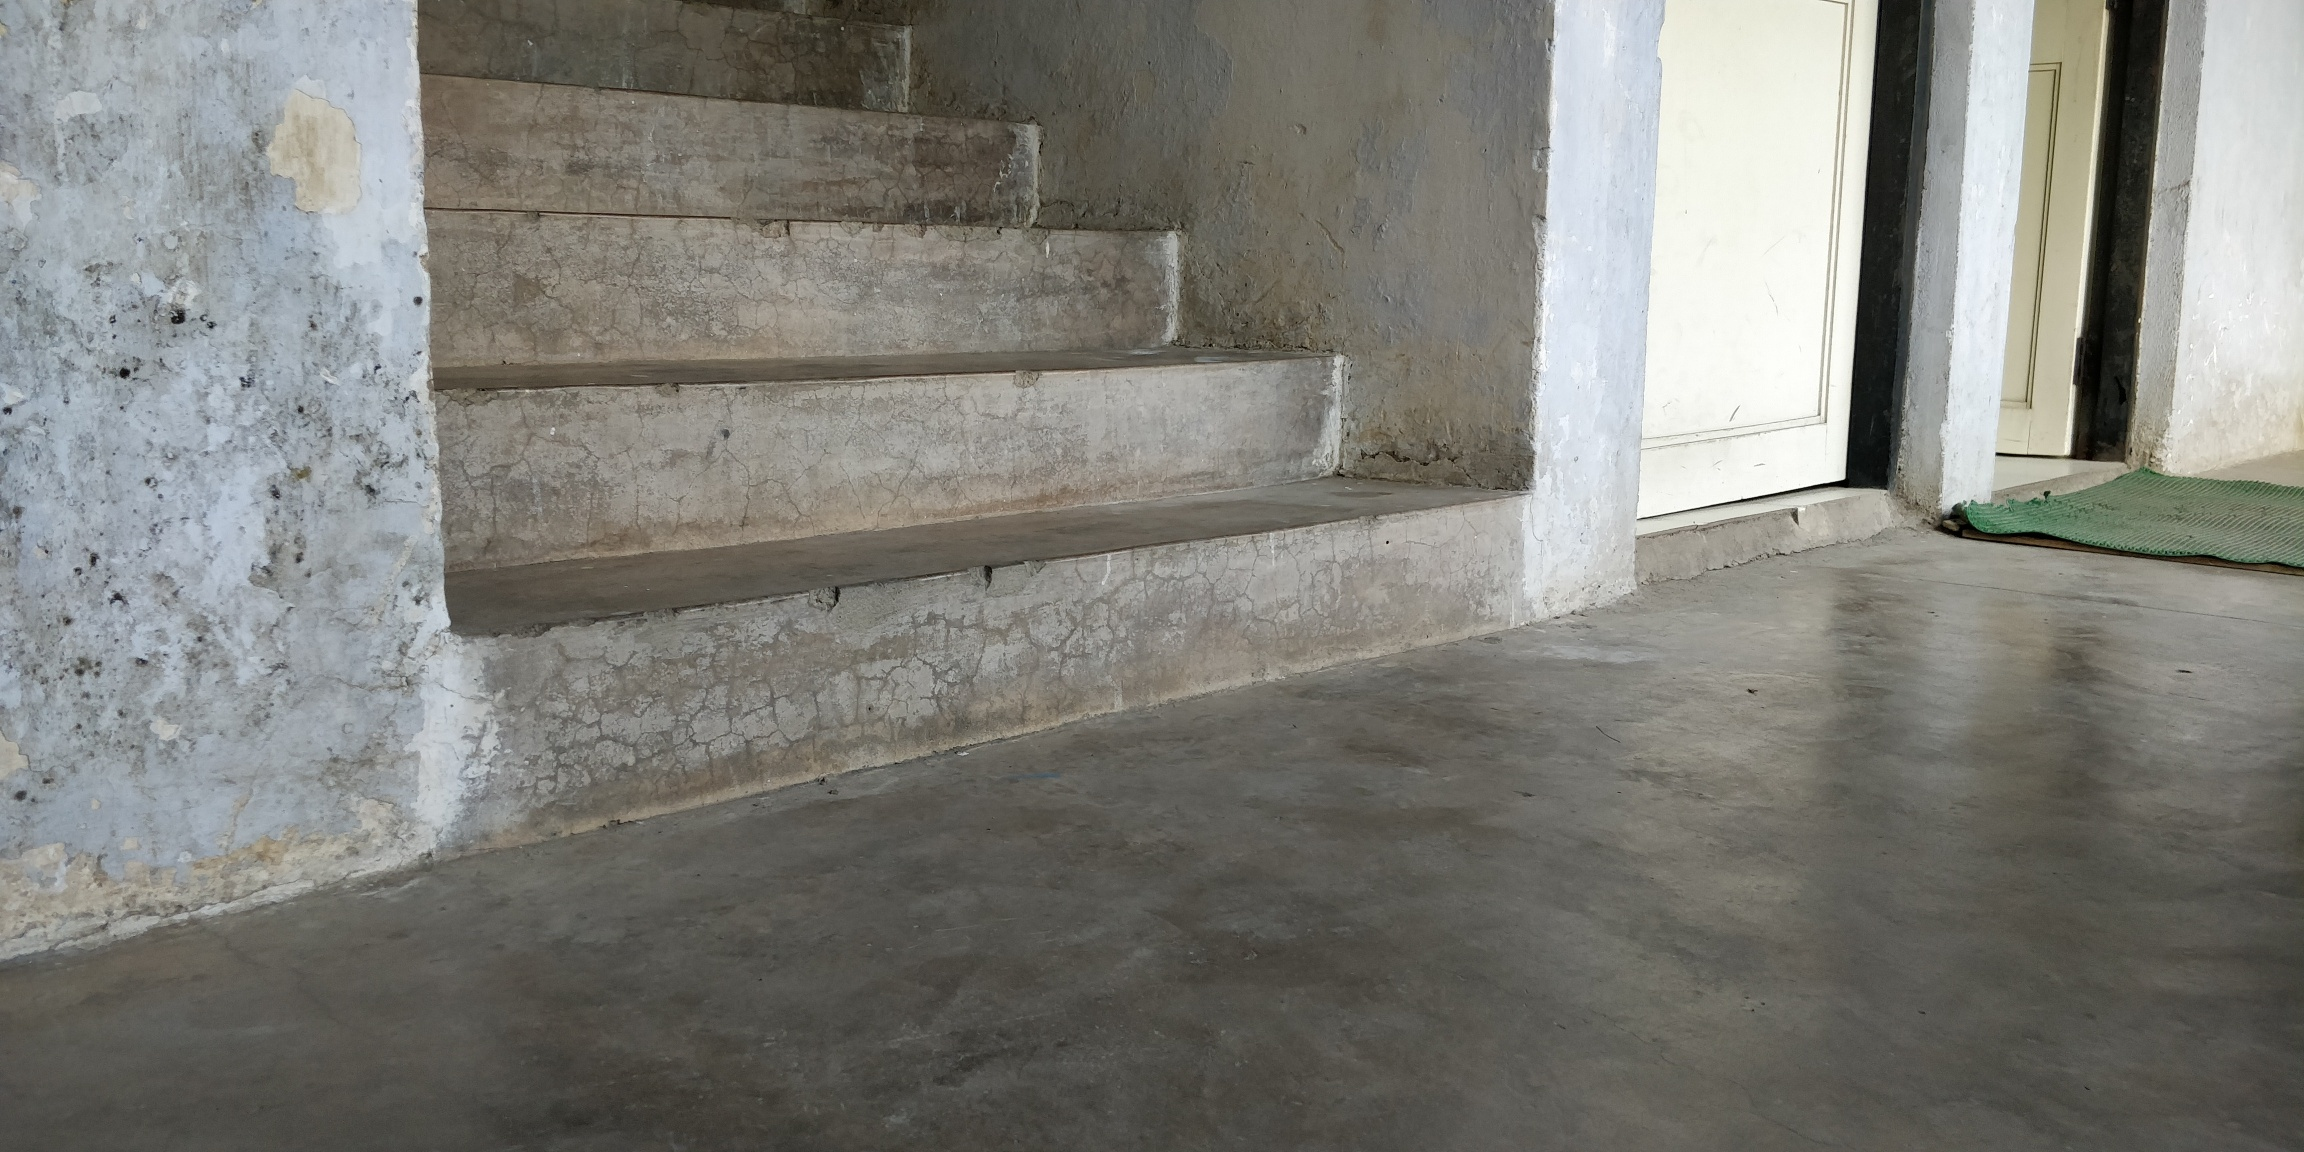stairs_up: (361, 3, 1528, 704)
